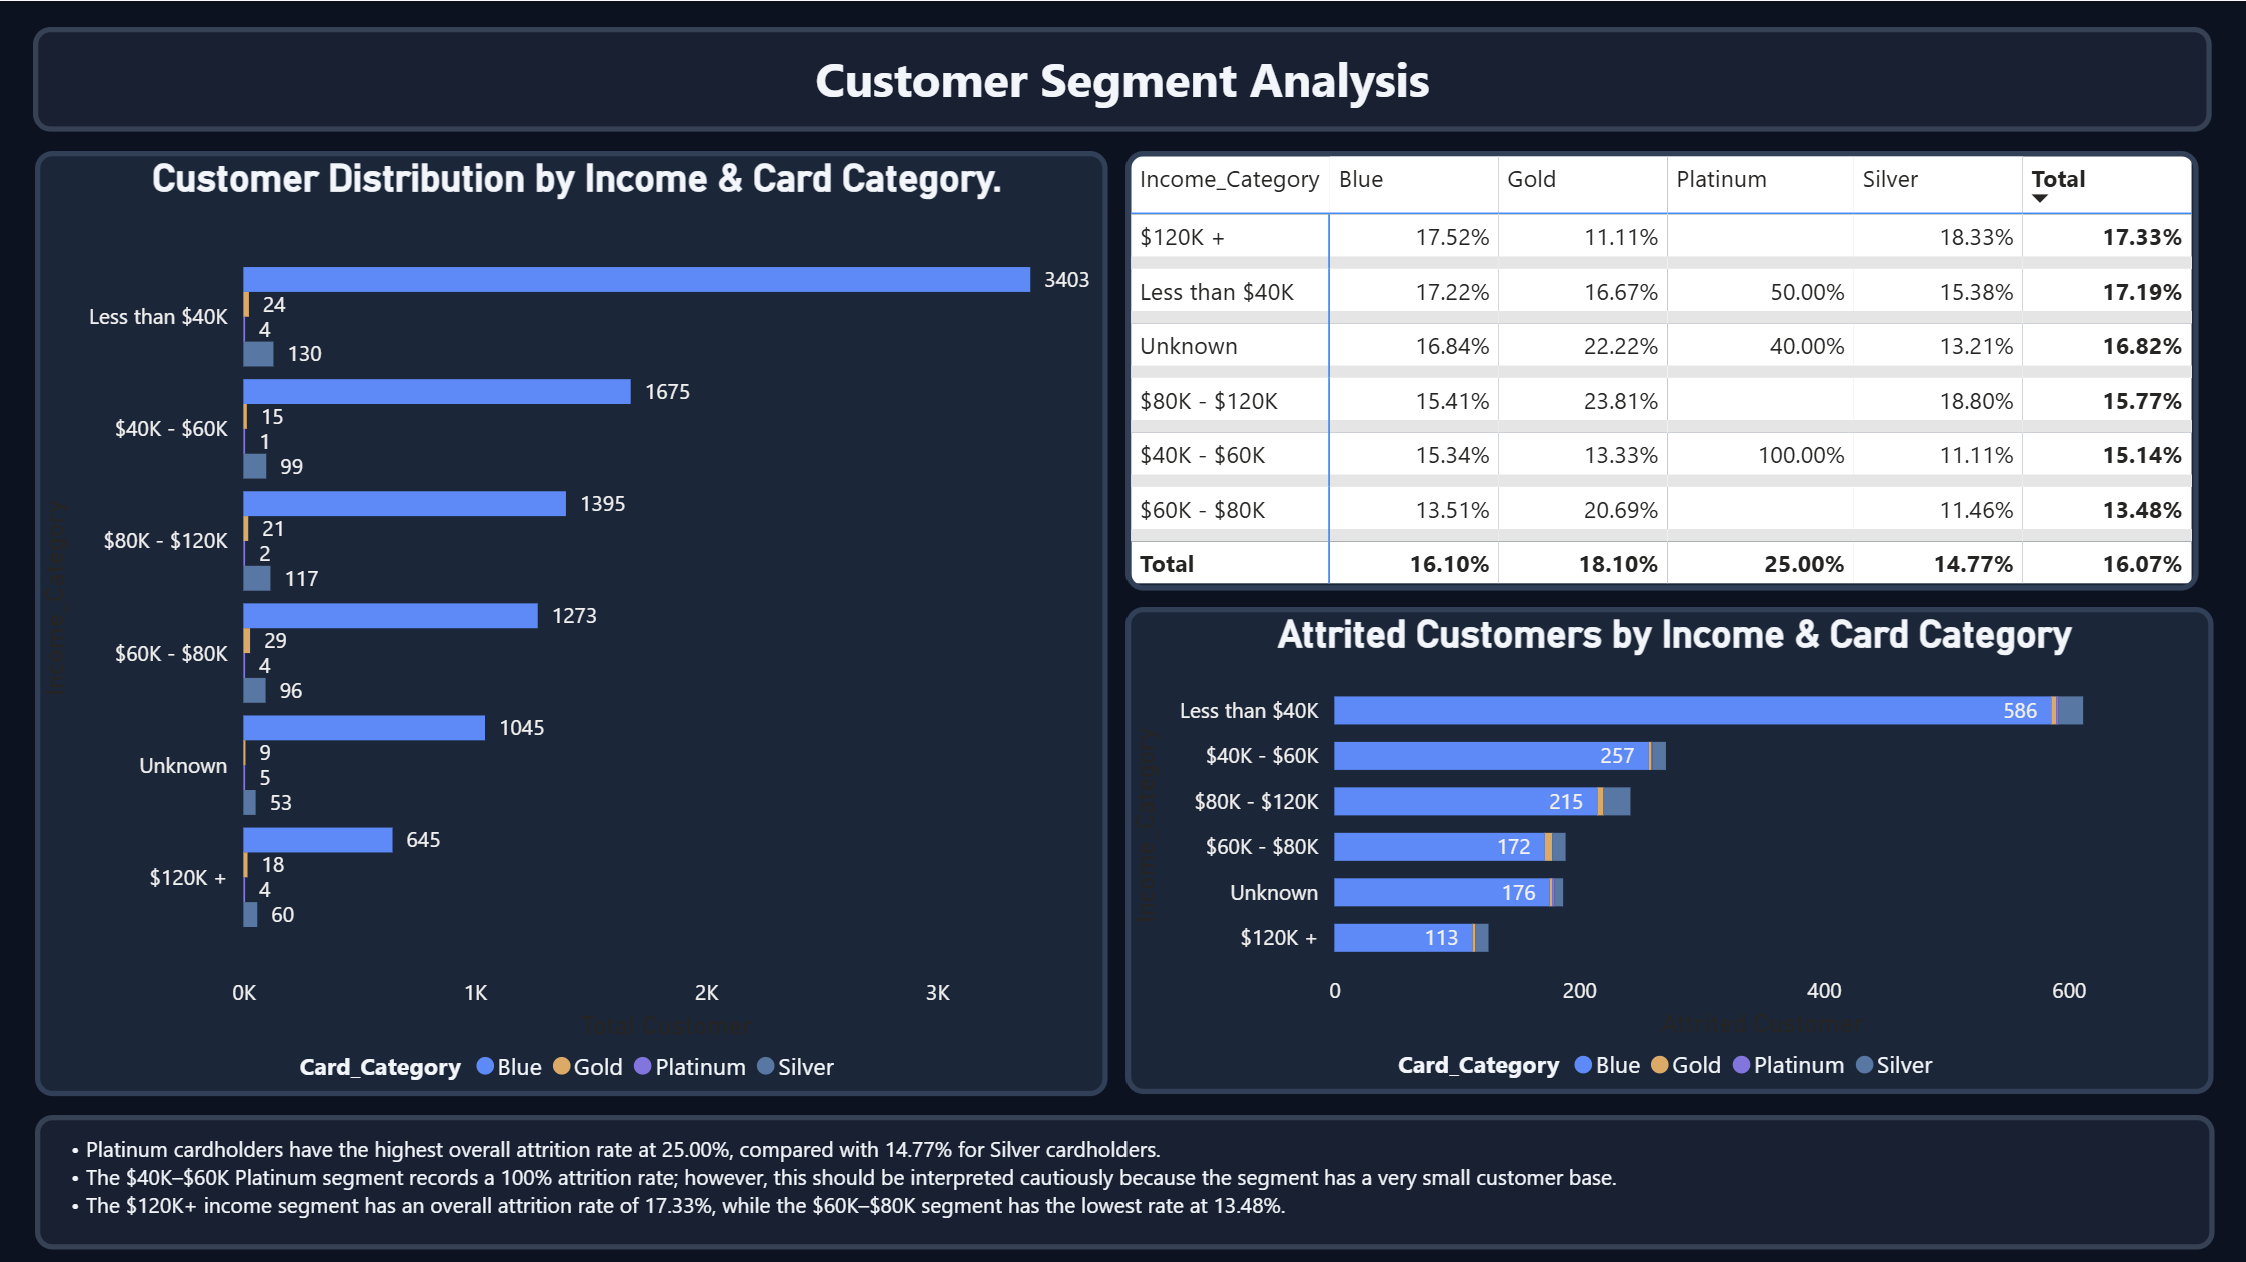

Layout of this report page (visuals, bound fields, positions):
{"tool":"powerbi","page":{"name":"Customer  Segment Analysis","canvas":[1280,720],"ordinal":2},"visuals":[{"type":"textbox","box":[20.7,15.3,1238.7,59.7],"z":0},{"type":"barChart","title":"Attrited Customers by Income & Card Category","fields":{"Series":["BankChurners.Card_Category"],"Category":["BankChurners.Income_Category"],"Y":["BankChurners.Attrited Customer"]},"box":[641.4,344.3,618.6,277.1],"z":5000},{"type":"clusteredBarChart","title":"Customer Distribution by Income & Card Category.","fields":{"Category":["BankChurners.Income_Category"],"Y":["BankChurners.Total Customer"],"Series":["BankChurners.Card_Category"]},"box":[21.2,85,610,537.5],"z":6000},{"type":"pivotTable","title":"Attrition Rate by Relationship Count","fields":{"Values":["BankChurners.Attrited Rate"],"Rows":["BankChurners.Income_Category"],"Columns":["BankChurners.Card_Category"]},"box":[641.2,85,610,250],"z":7000},{"type":"textbox","box":[21.2,633.8,1238.8,76.2],"z":8000}]}

Visuals, with their boxes in screenshot pixels (x1, y1, x2, y2), scaled from the page's 1280x720 canvas onto the 2246x1262 screenshot:
textbox: crop(36, 27, 2210, 131)
"Attrited Customers by Income & Card Category" barChart: crop(1125, 603, 2211, 1089)
"Customer Distribution by Income & Card Category." clusteredBarChart: crop(37, 149, 1108, 1091)
"Attrition Rate by Relationship Count" pivotTable: crop(1125, 149, 2195, 587)
textbox: crop(37, 1111, 2211, 1244)
